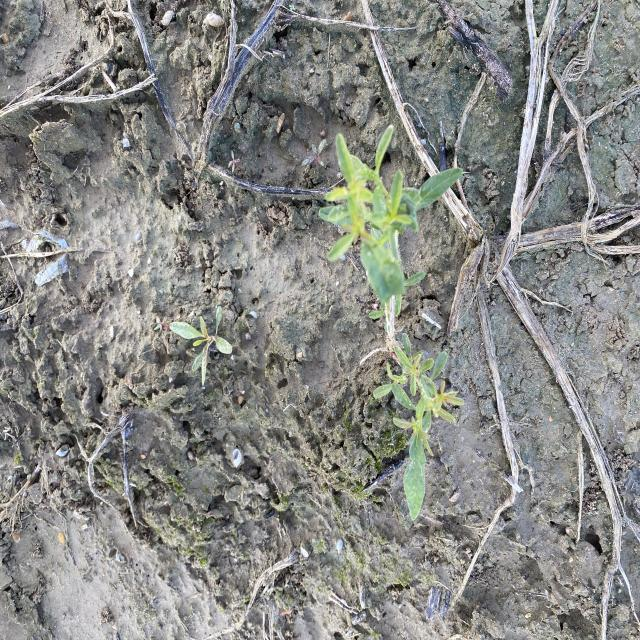Waterhemp: (317, 121, 466, 524), (168, 305, 234, 387)
